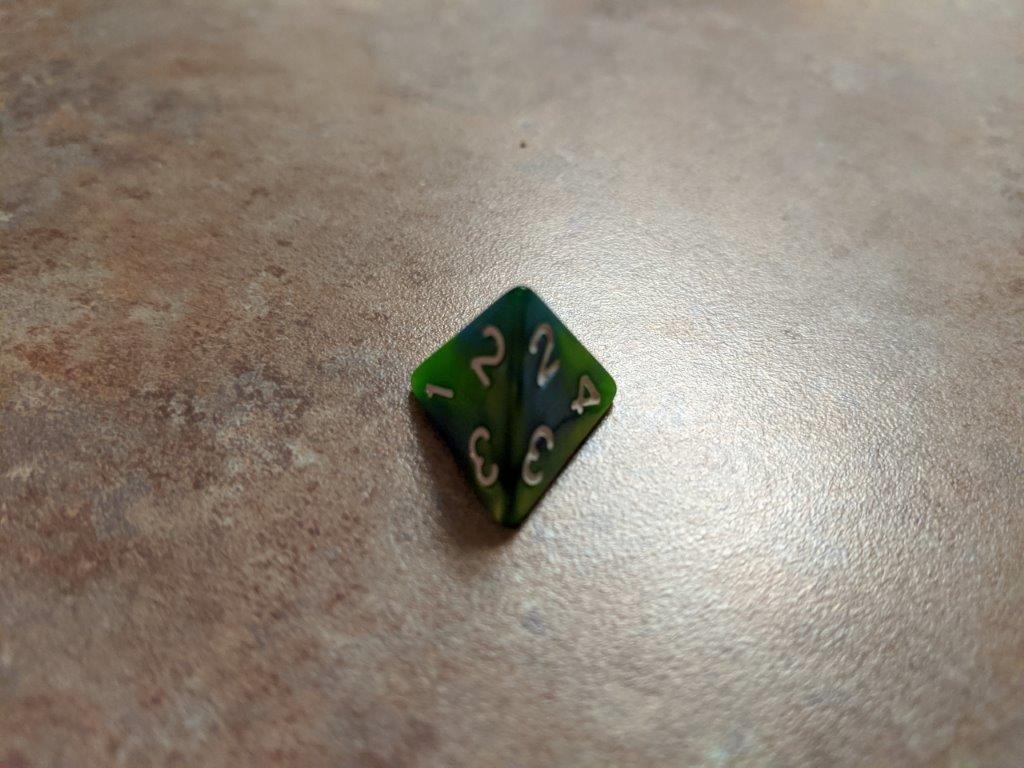d4-2: (399, 278, 621, 528)
